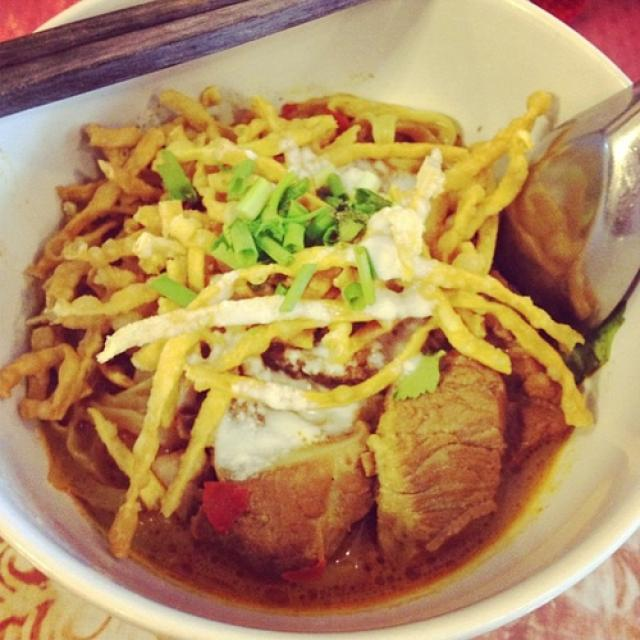面条主食: (9, 18, 630, 610)
